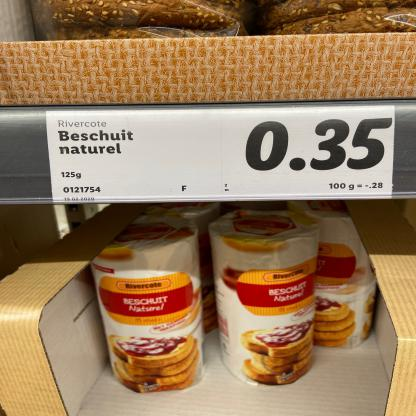prtg: (47, 106, 396, 205)
